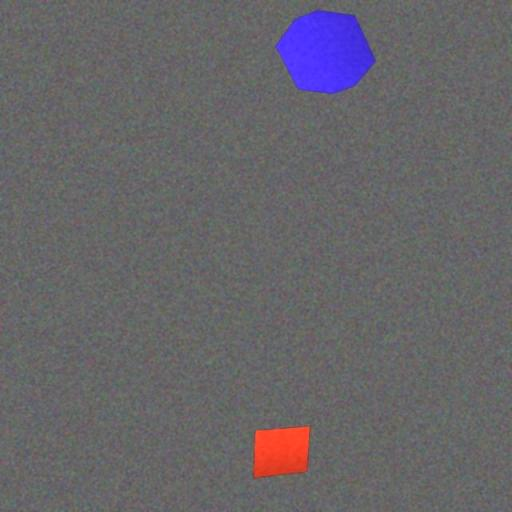RED_SQUARE: (253, 426, 311, 479)
